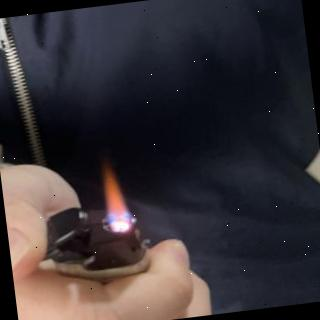fire: (100, 162, 136, 234)
